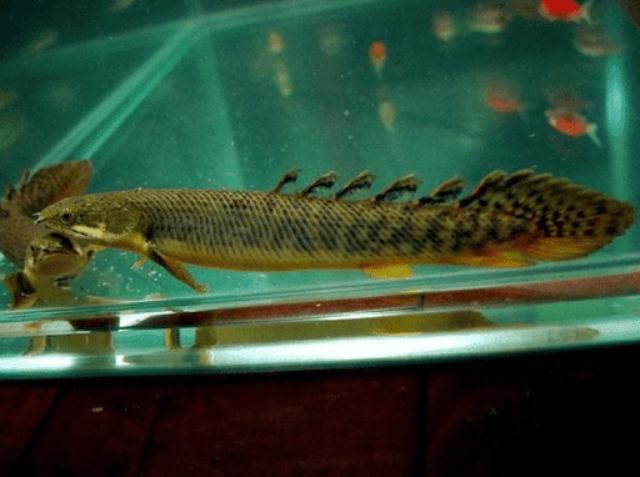Mulut: (30, 199, 78, 257)
Sirip Anal: (454, 243, 530, 271)
Sirip Ekor: (504, 162, 640, 270)
Sirip Perut: (117, 237, 219, 305), (350, 250, 426, 290)
Sirip Punggung: (248, 158, 528, 218)
